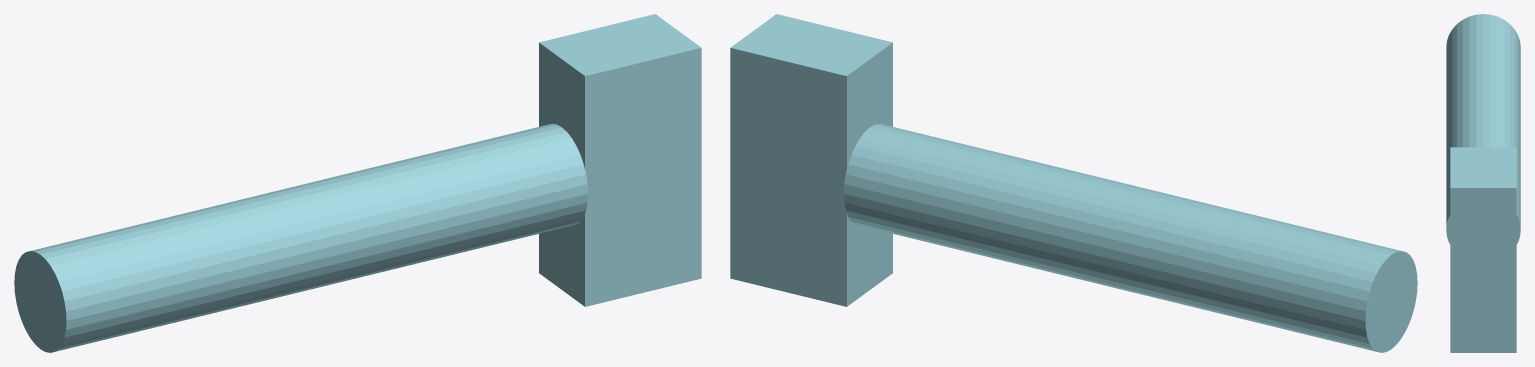
File: cylinder_hammer_v1016.obj
The picture shows the model from 3 angles, left to right: view 1: azimuth 30°, elevation 25°; view 2: azimuth 150°, elevation 25°; view 3: azimuth 270°, elevation 25°; orthographic projection. The views are drawn at different scales.
Size of the model in its own units: 0.2787 by 0.0963 by 0.0395.
Materials: 1 (1 with a texture image).
